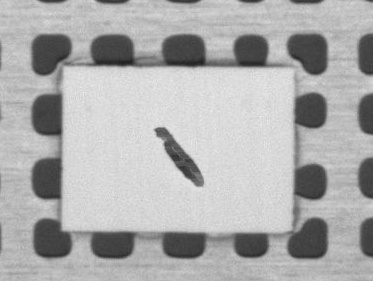DIE_INK: (153, 123, 208, 194)
